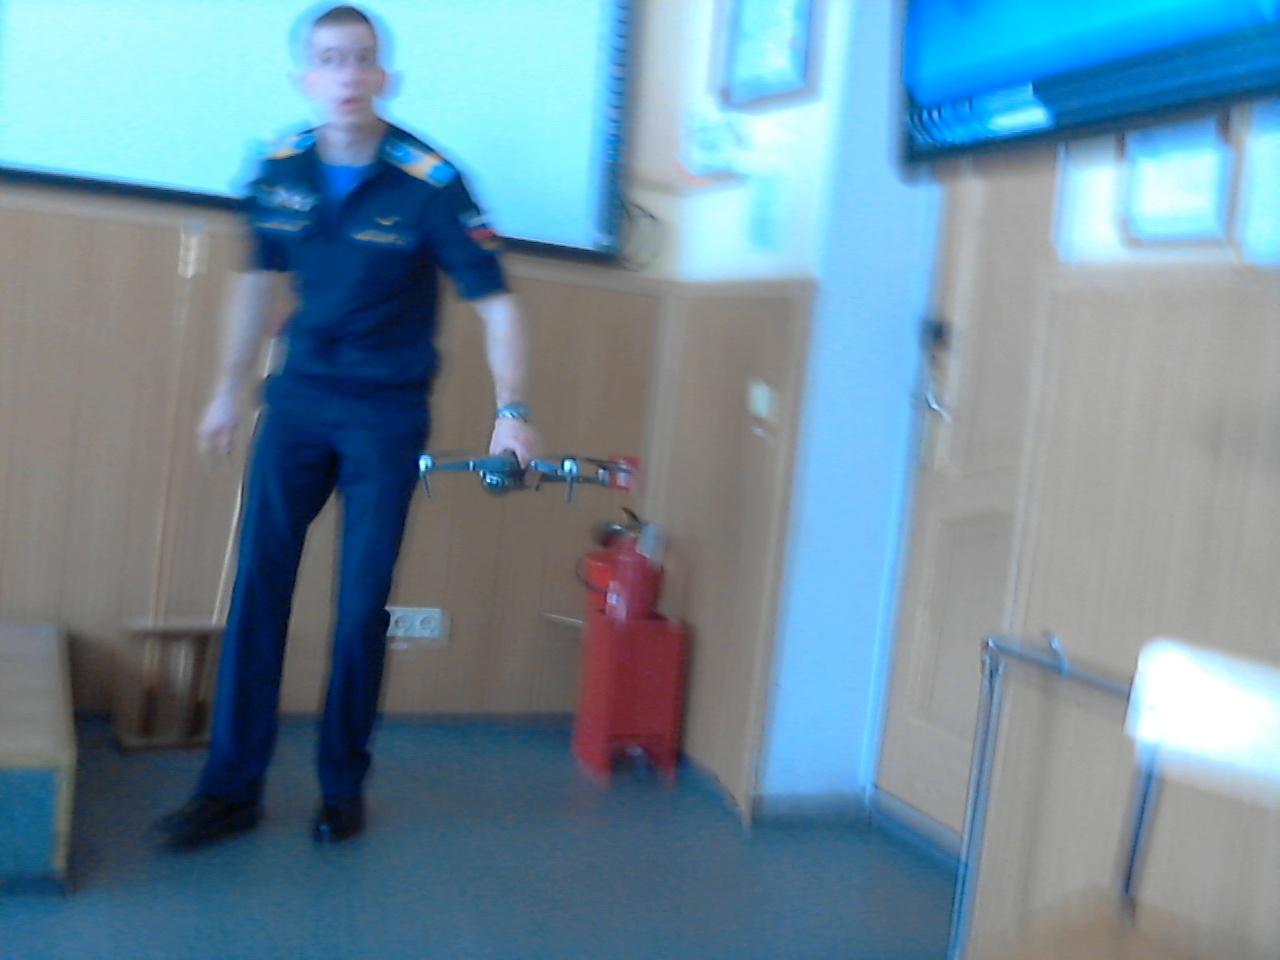drone: (394, 422, 683, 515)
